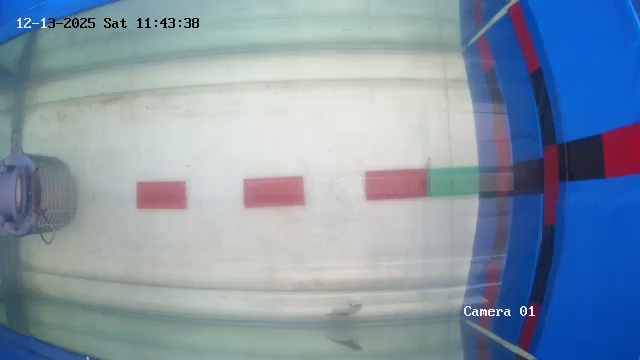fish: (320, 301, 374, 321)
